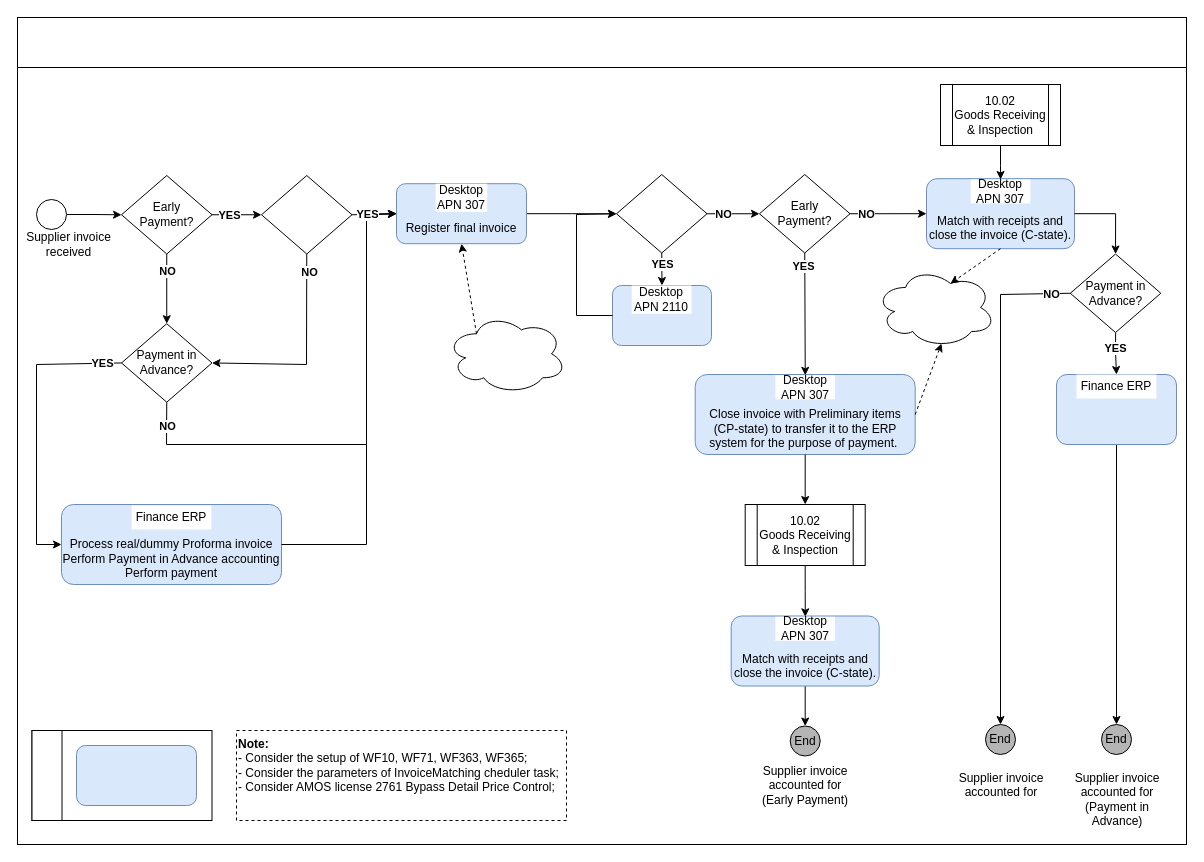
The diagram is 1204 pixels wide and 862 high, and some of its shapes have lost their labels. Each missing label, with the box of its shape:
12.02a Invoice Checking: (16, 16, 1186, 68)
Accounting Dpt.: (76, 744, 196, 806)
Approval needed?: (616, 174, 707, 253)
Approve invoice: (612, 284, 712, 346)
Export Invoice interface: (874, 266, 996, 348)
Final real invoice fo 100% payment?: (260, 174, 352, 254)
Import Invoice interface: (446, 313, 566, 394)
LEGEND: (31, 730, 62, 820)
Reverse Payment in Advance accounting: (1056, 374, 1176, 444)
Start: (36, 198, 66, 230)
